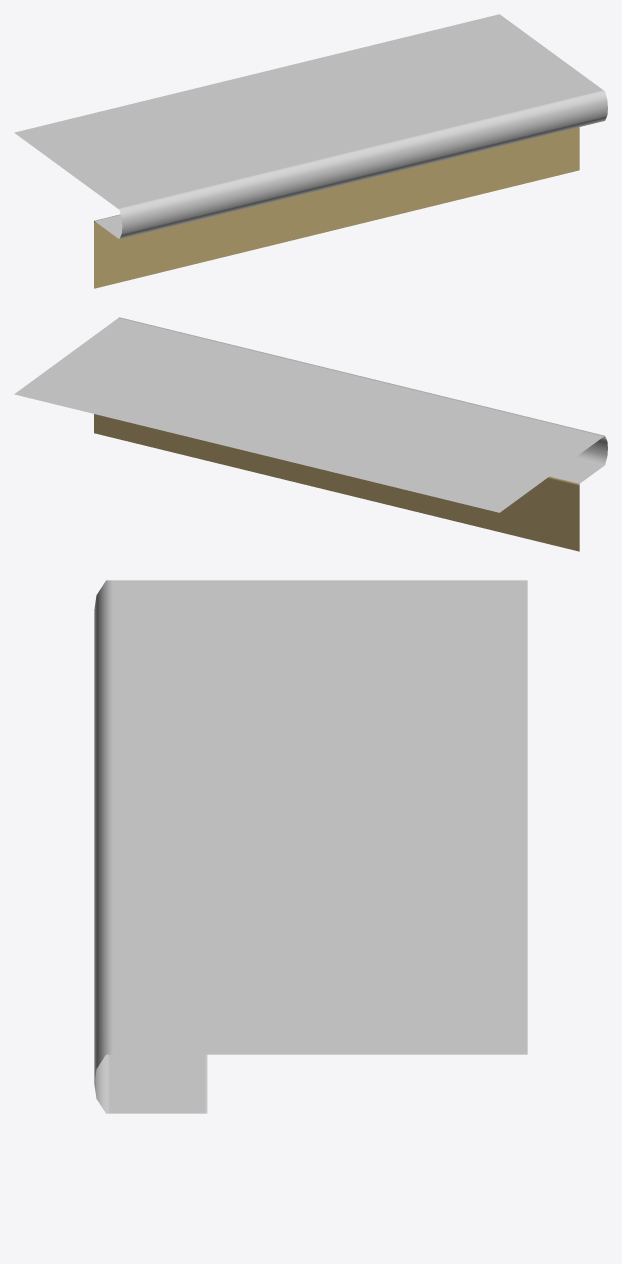
File: InteriorStairsSingle.fbx
3 views of the same model, one above another, from view 1: azimuth 30°, elevation 25°; view 2: azimuth 150°, elevation 25°; view 3: azimuth 270°, elevation 25° (orthographic). The views are drawn at different scales.
Parts seen in each view (by area): view 1: Stair_LOD0; view 2: Stair_LOD0; view 3: Stair_LOD0.
Boxes of the visible parts, x1,y1,x2,y2 form: Stair_LOD0: (14,14,607,288); Stair_LOD0: (14,317,607,551); Stair_LOD0: (94,580,527,1113).
Size of what is drawn, in the model's own units: 248 by 47.51 by 95.69.
